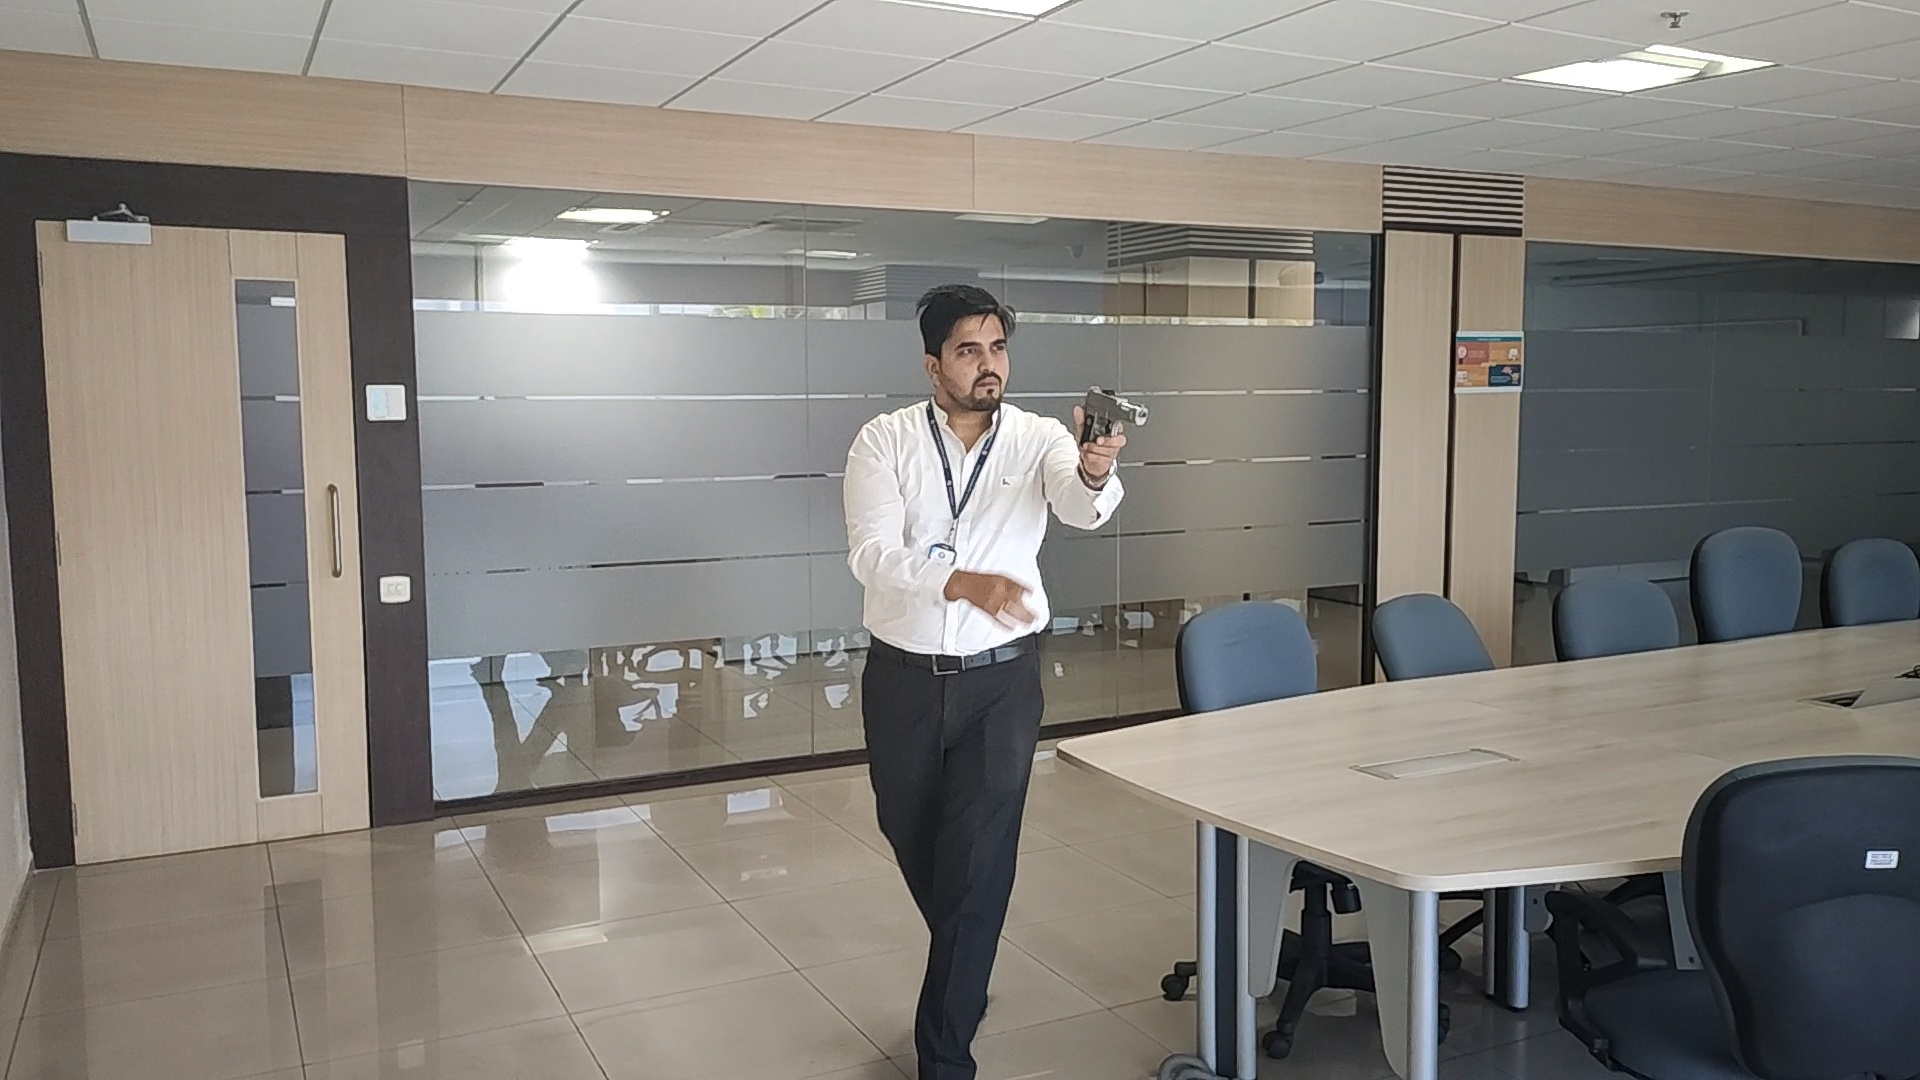gun: (1076, 382, 1150, 444)
